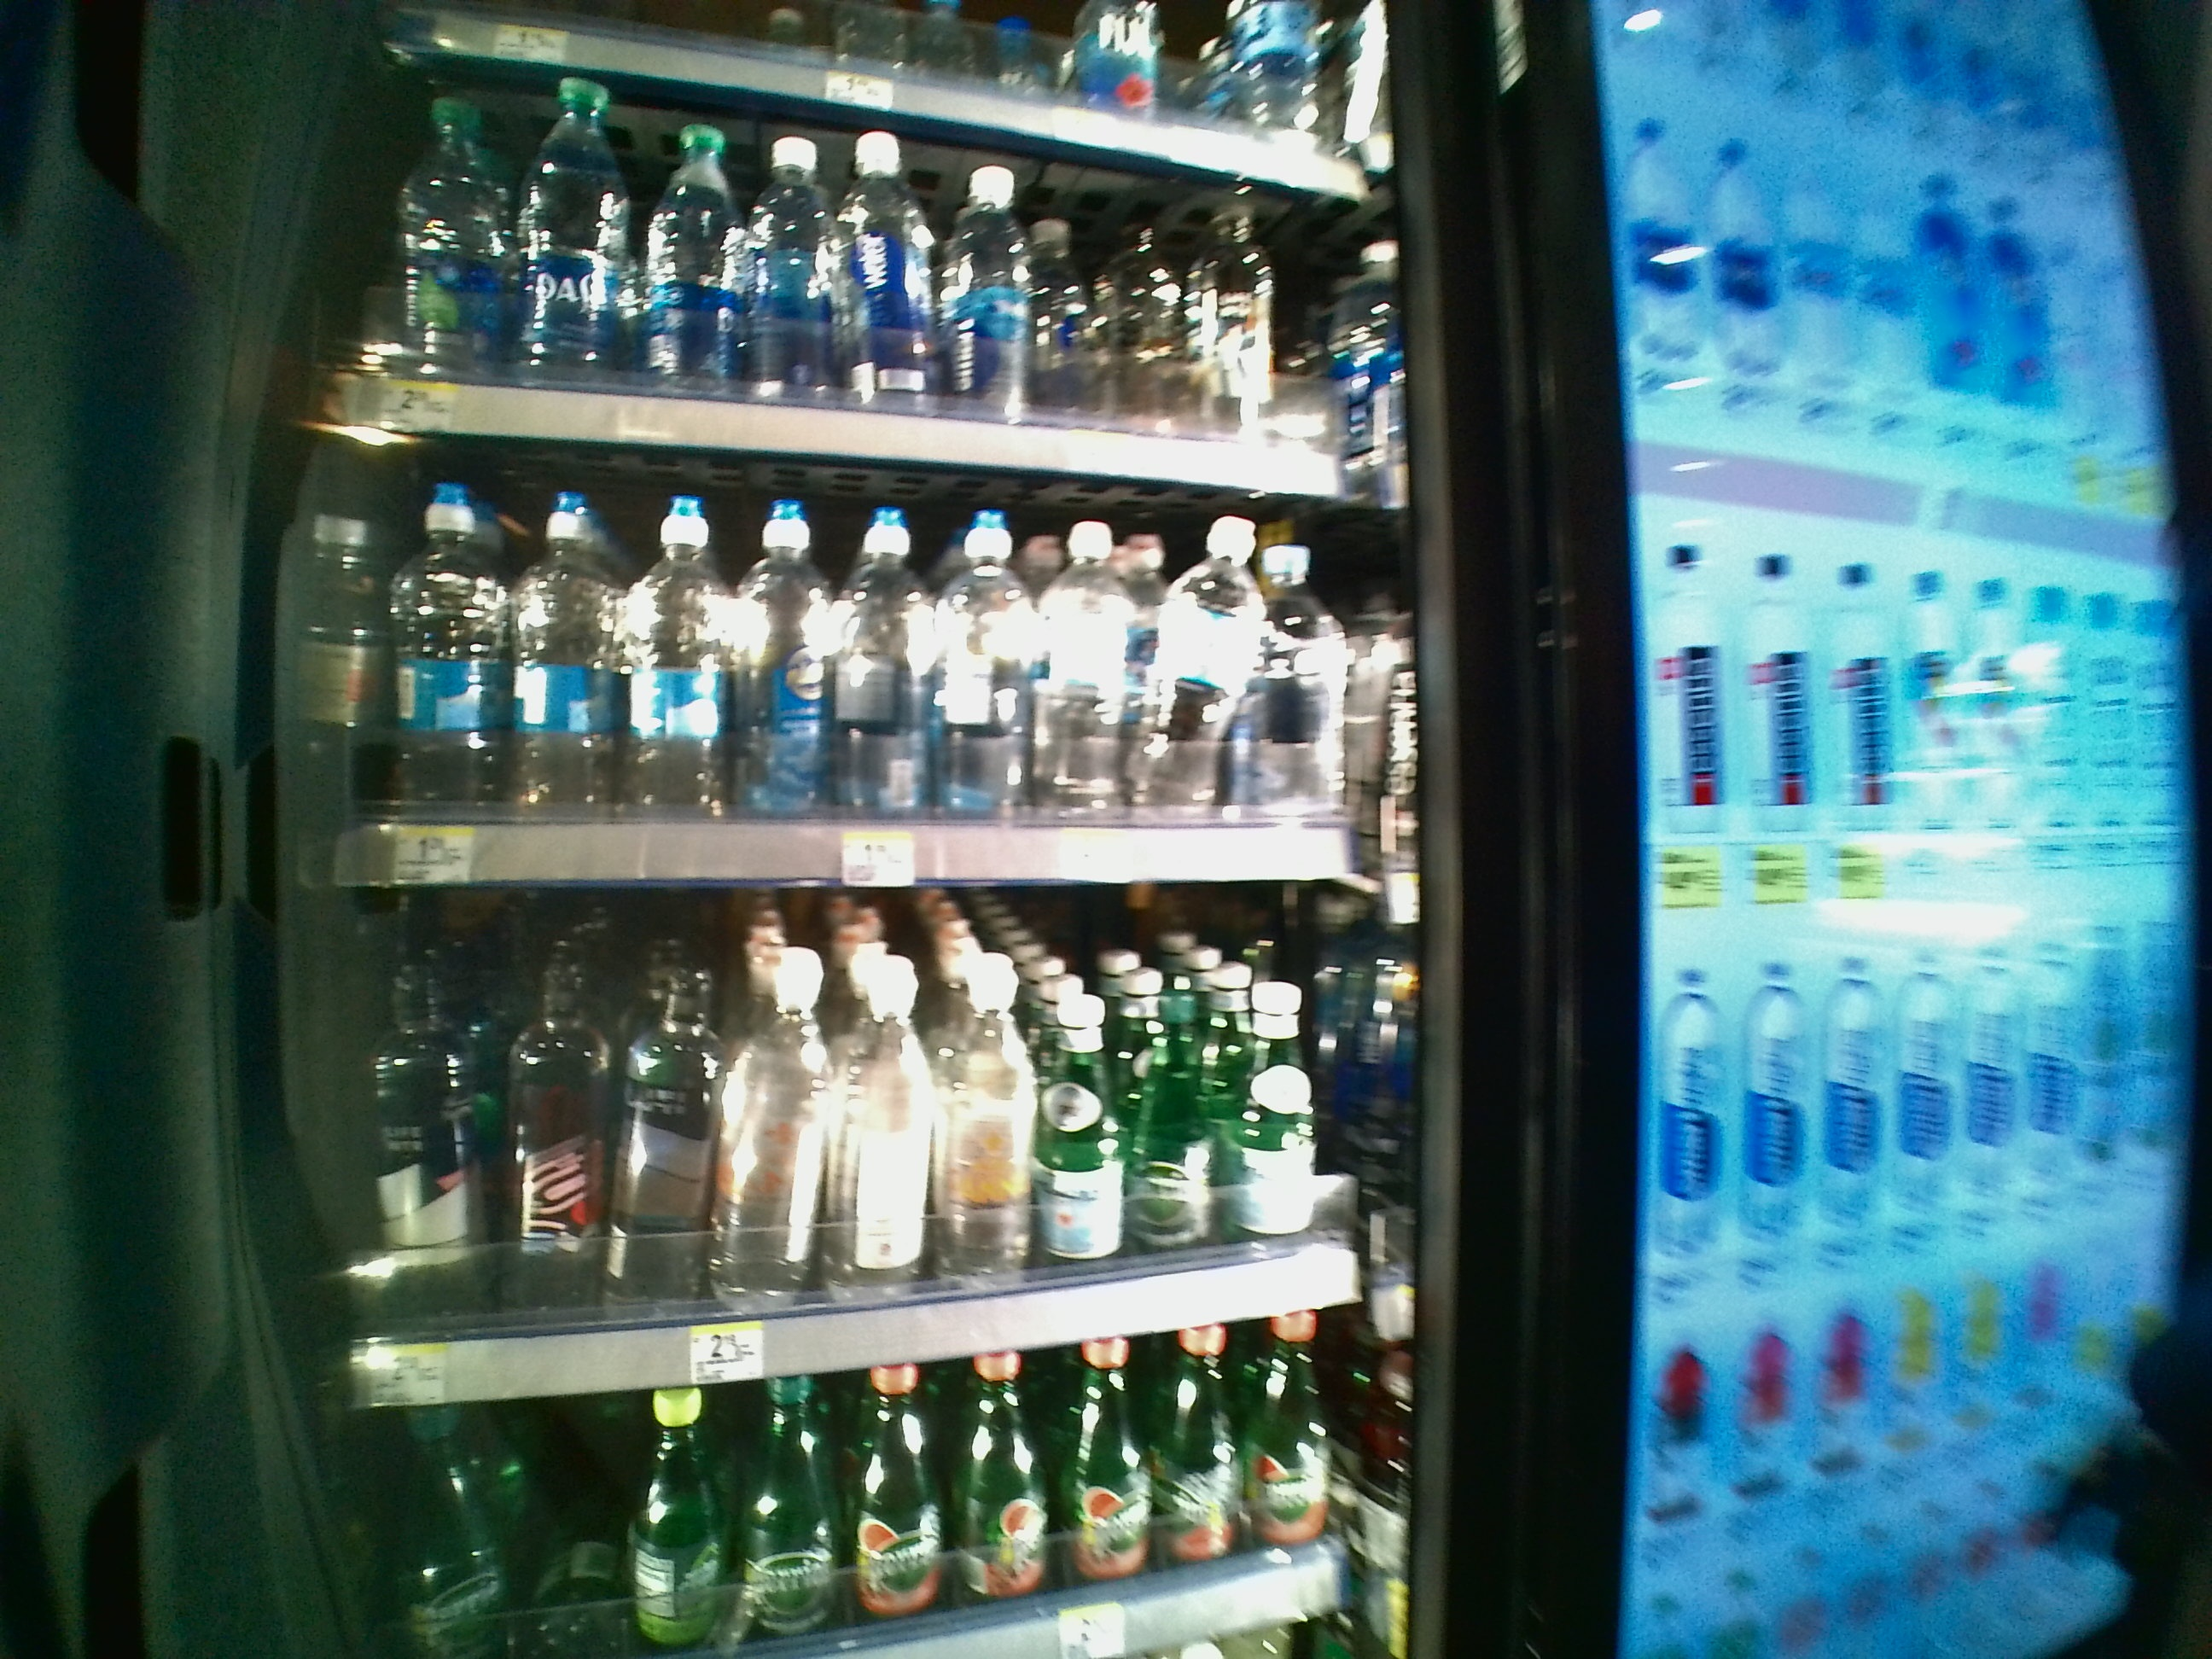shelf: (341, 894, 1388, 1417), (341, 432, 1395, 894)
